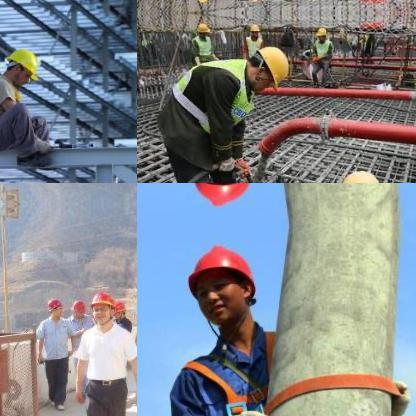Helmet: (178, 230, 264, 340), (177, 183, 266, 219), (244, 41, 292, 91), (2, 43, 42, 83), (87, 288, 119, 324), (332, 164, 386, 182), (44, 294, 62, 316), (71, 296, 87, 320), (112, 295, 126, 319), (194, 18, 210, 36), (314, 23, 328, 43), (246, 22, 260, 36), (193, 0, 211, 5)
